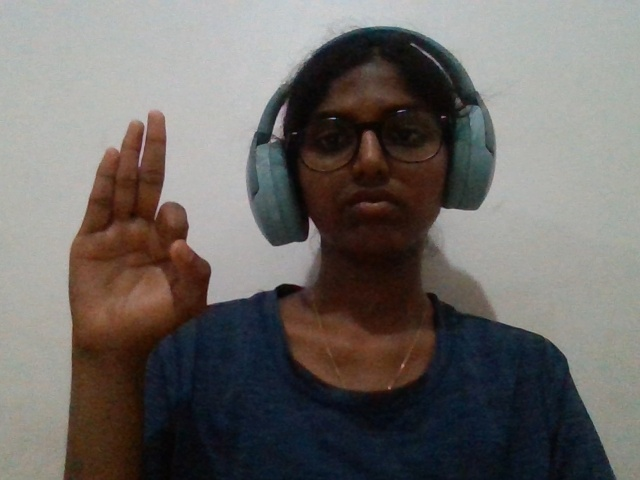F: (41, 96, 244, 415)
